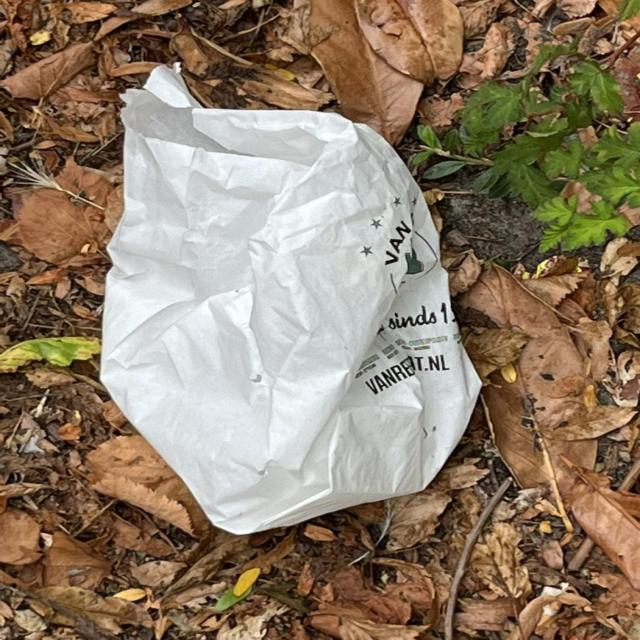Paper: (94, 58, 488, 538)
